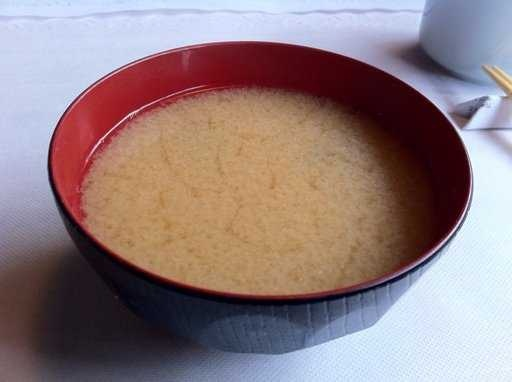soup: (100, 79, 403, 301)
